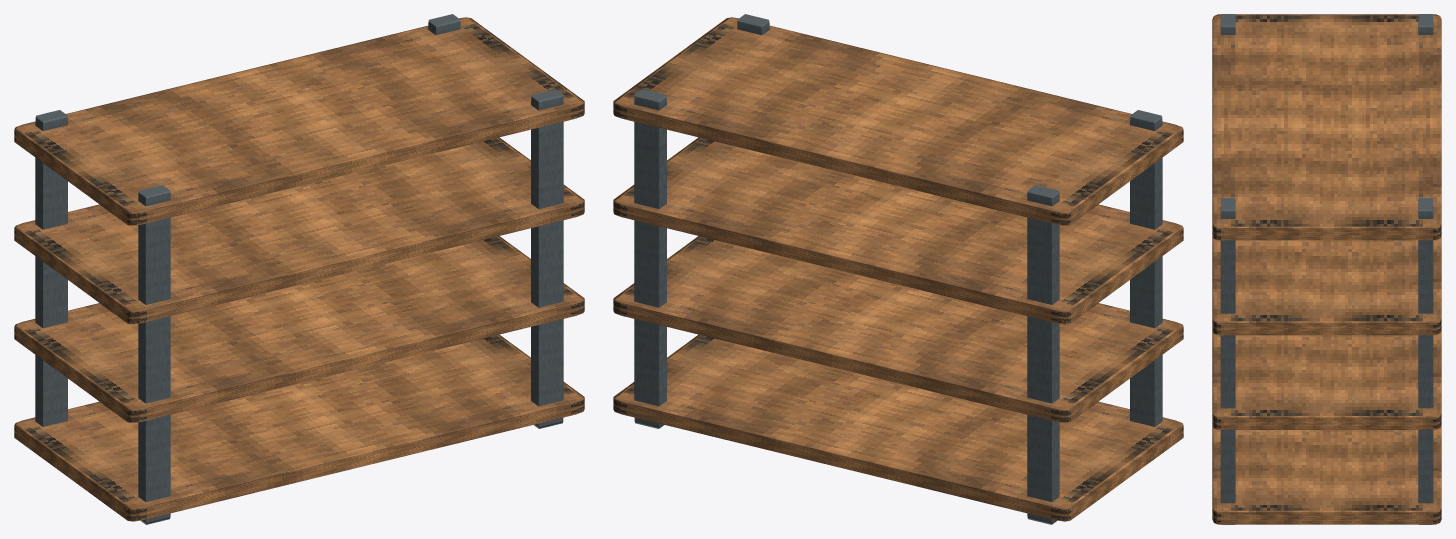
Rendered from shoes.glb.
3 views of the same model, side by side, from view 1: azimuth 30°, elevation 25°; view 2: azimuth 150°, elevation 25°; view 3: azimuth 270°, elevation 25° (orthographic). The views are drawn at different scales.
Parts seen in each view (by area): view 1: shelf (×4), leg (×3); view 2: shelf (×4), leg (×3); view 3: shelf (×4), leg (×4).
Part boxes in pixels (x1=…): shelf (×4): x1=14, y1=17, x2=584, y2=521; leg (×3): x1=35, y1=89, x2=563, y2=524; shelf (×4): x1=613, y1=17, x2=1183, y2=521; leg (×3): x1=634, y1=89, x2=1162, y2=524; shelf (×4): x1=1212, y1=14, x2=1441, y2=524; leg (×4): x1=1220, y1=14, x2=1433, y2=524.
Bounding box in the file's own units: 0.64 × 0.44 × 0.29.
Materials: 2 (2 with a texture image).
